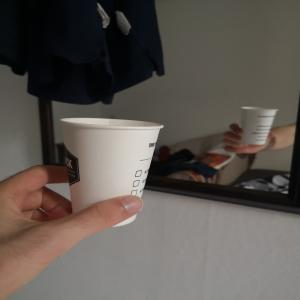Cup: (58, 117, 166, 229), (238, 106, 280, 147)
